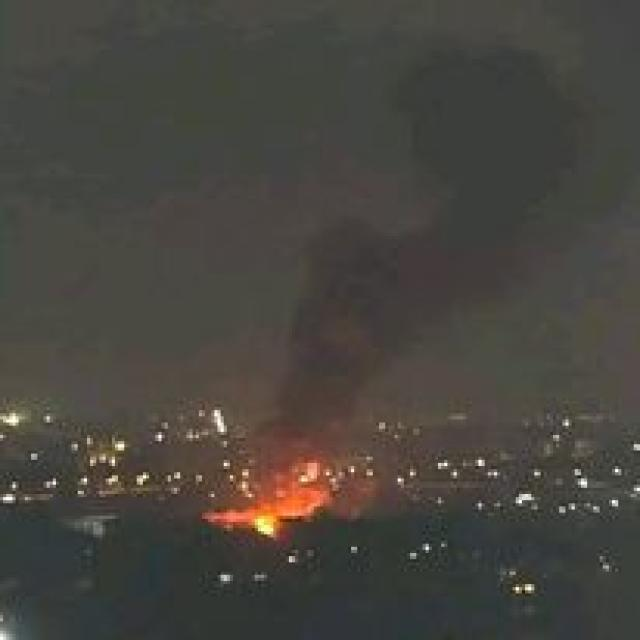Fire: (225, 486, 343, 536)
Smoke: (411, 65, 589, 263), (310, 236, 446, 396), (272, 378, 343, 473)
